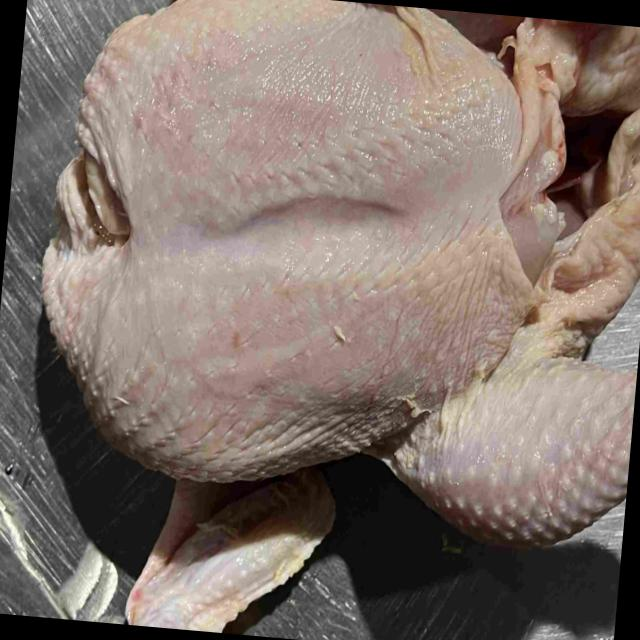breast: (40, 0, 558, 481)
leg: (381, 361, 638, 540)
wing: (128, 482, 332, 633)
